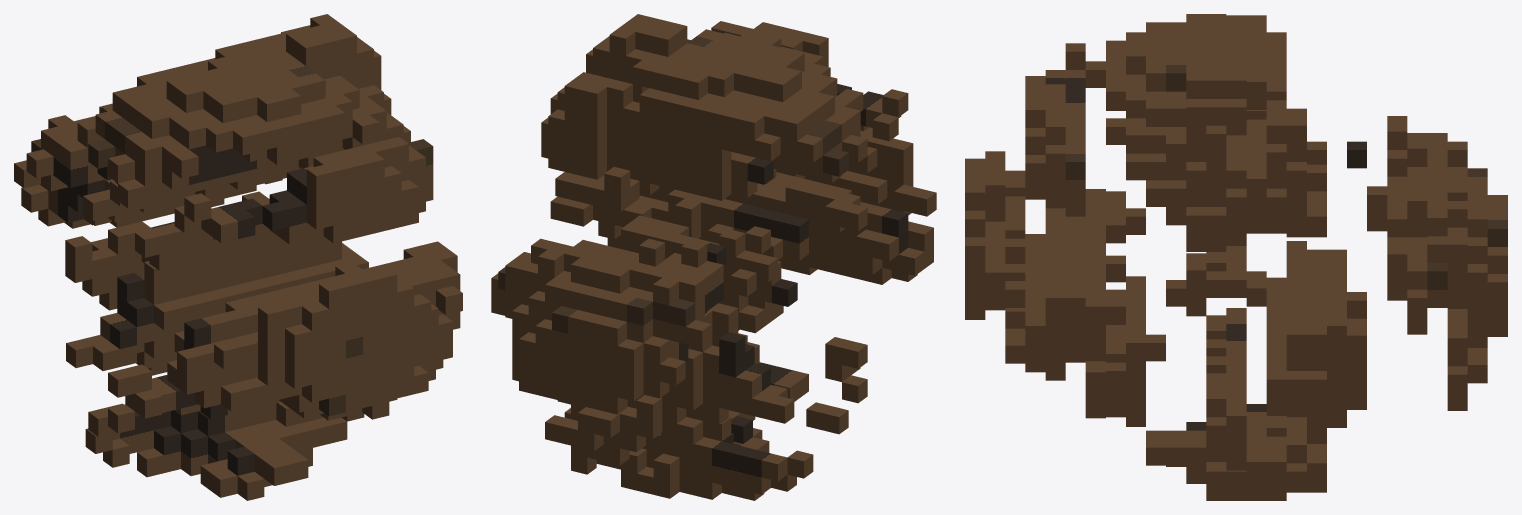
File: MeteorGone.glb
The picture shows the model from 3 angles, left to right: view 1: azimuth 30°, elevation 25°; view 2: azimuth 150°, elevation 25°; view 3: azimuth 270°, elevation 25°; orthographic projection. The views are drawn at different scales.
Visible parts, largest first — view 1: meteorFullyCrashed-Mesh; view 2: meteorFullyCrashed-Mesh; view 3: meteorFullyCrashed-Mesh.
Boxes of the visible parts, x1=… form: meteorFullyCrashed-Mesh: x1=14, y1=14, x2=462, y2=500; meteorFullyCrashed-Mesh: x1=491, y1=14, x2=936, y2=500; meteorFullyCrashed-Mesh: x1=965, y1=14, x2=1507, y2=500.
Size of the model in its own units: 17 by 24 by 27.
Materials: 1 (1 with a texture image).
